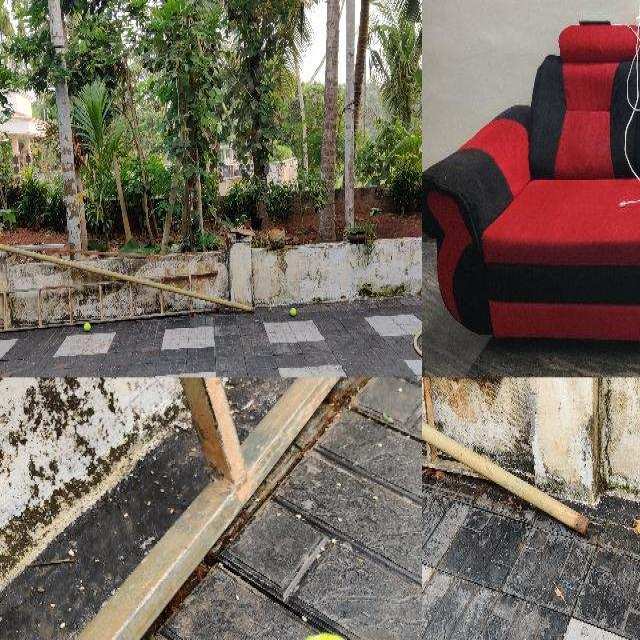tennis-ball: (84, 323, 91, 331), (290, 307, 296, 315)
